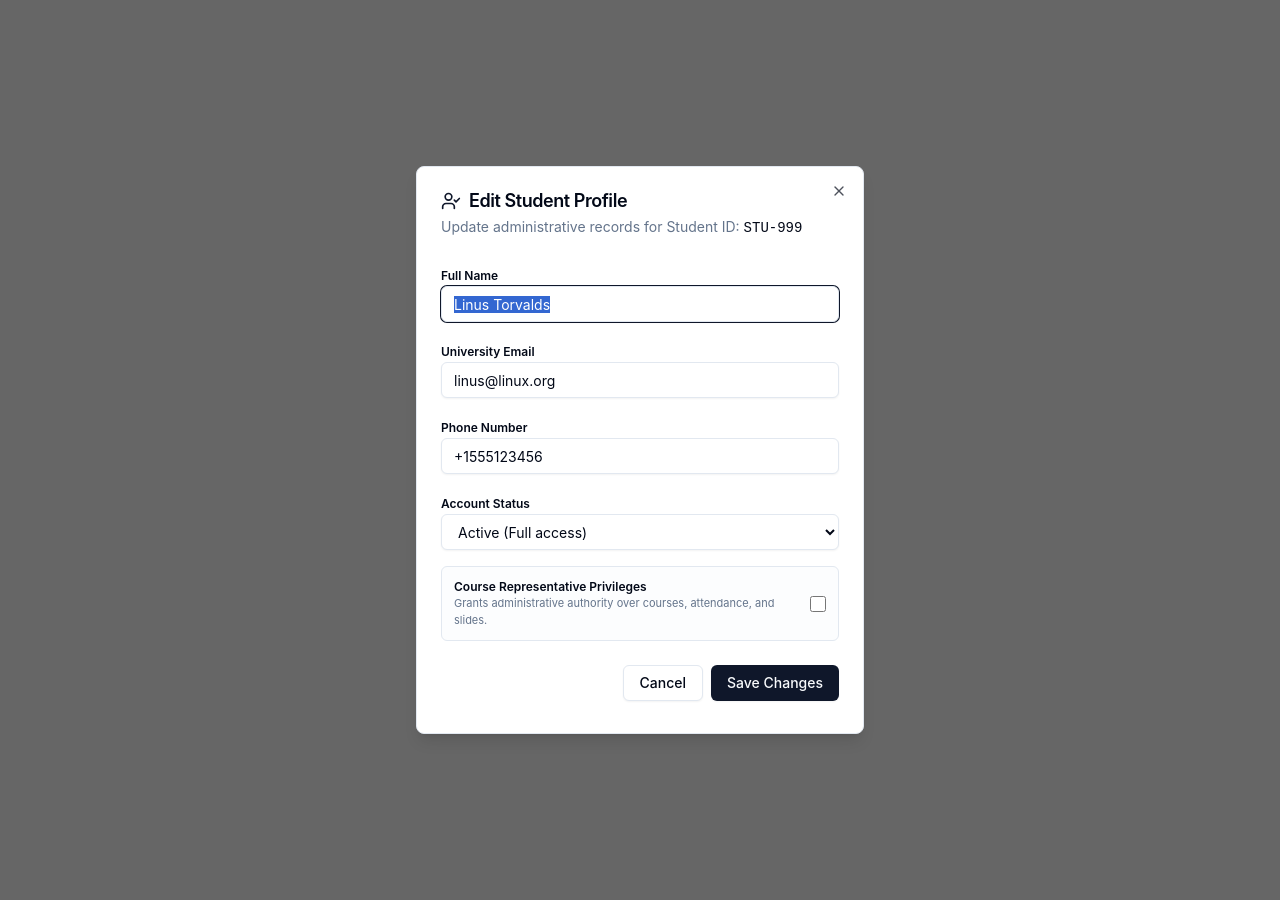
Test: EditStudentDialog › shows caution warning when elevating student to Course Rep
Step 1. Click the checkbox labelled "Course Representative Privileges" → (818, 604), box x1=810 y1=596 x2=826 y2=612
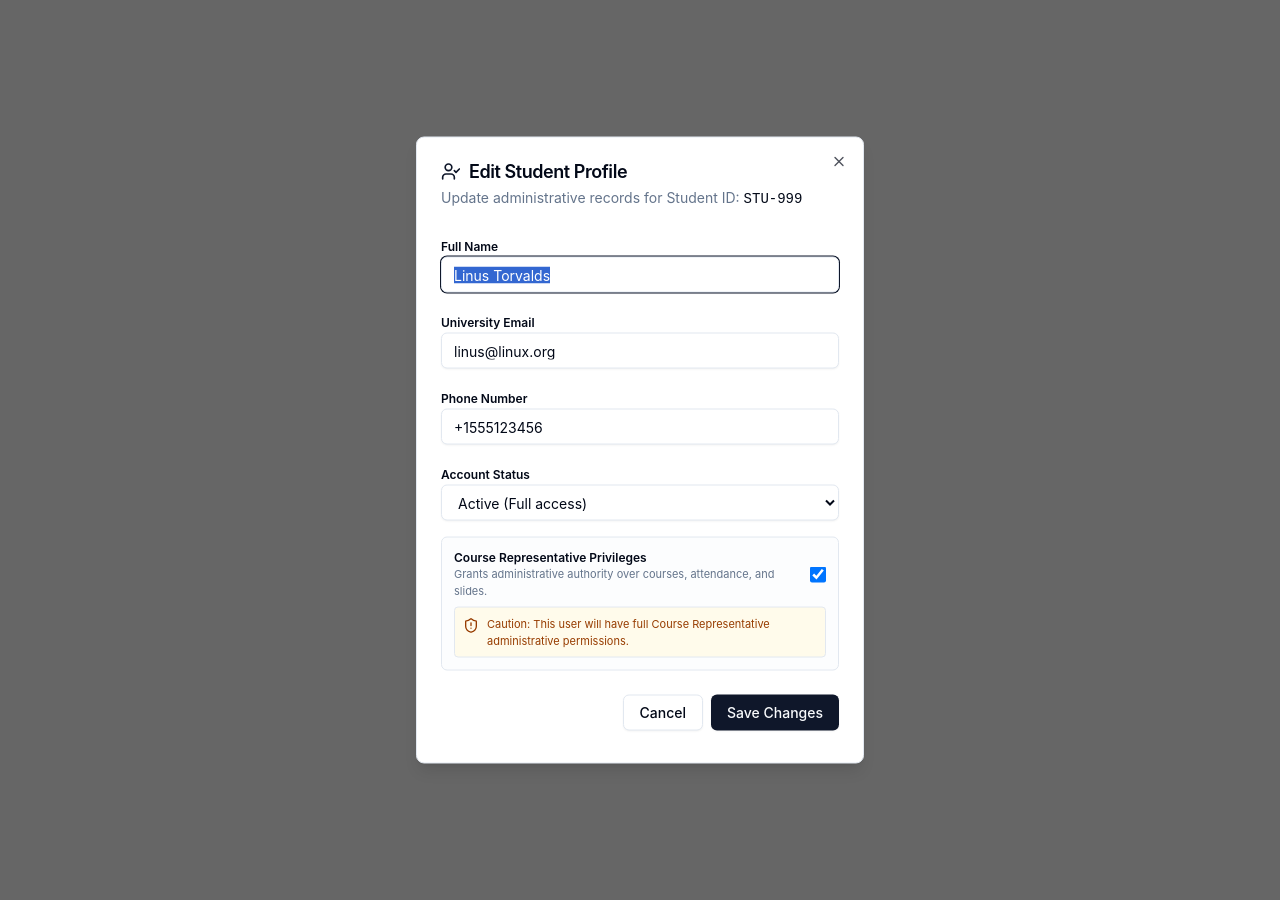
expect the checkbox labelled "Course Representative Privileges" is checked: met, box x1=810 y1=566 x2=826 y2=582
expect the text "Caution: This user will have full Course Representative administrative permissions" is shown: met, box x1=487 y1=616 x2=770 y2=647
